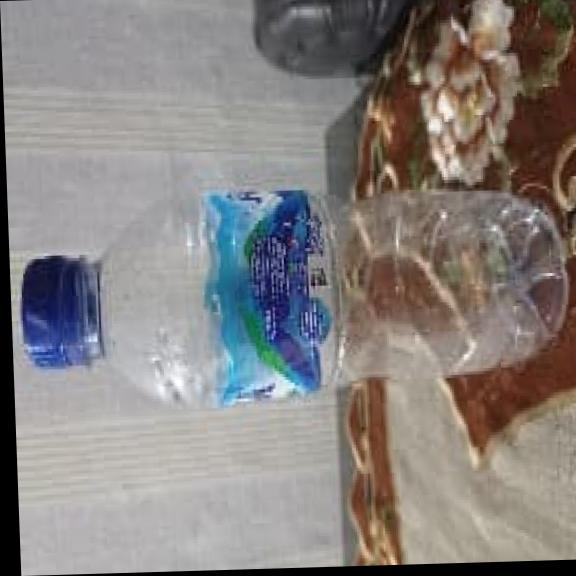Plastik: (22, 190, 564, 405)
